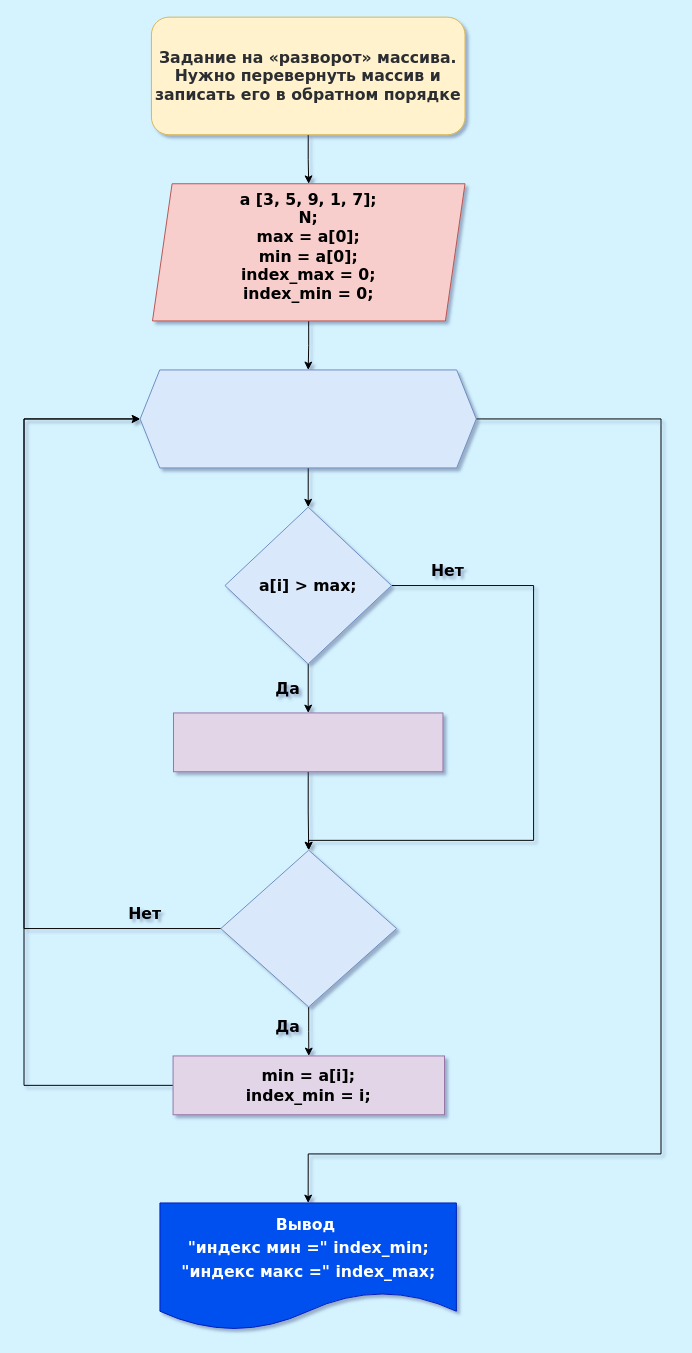
This 692x1353 diagram has some shape labels left out. Here are the shapes that lost their labels. From the top down, the centre of each, then its label:
the point at 307,418: i = 0; i < N; i++
the point at 307,742: max = a[i]; index_max = i;
the point at 308,928: a[i] < min;
